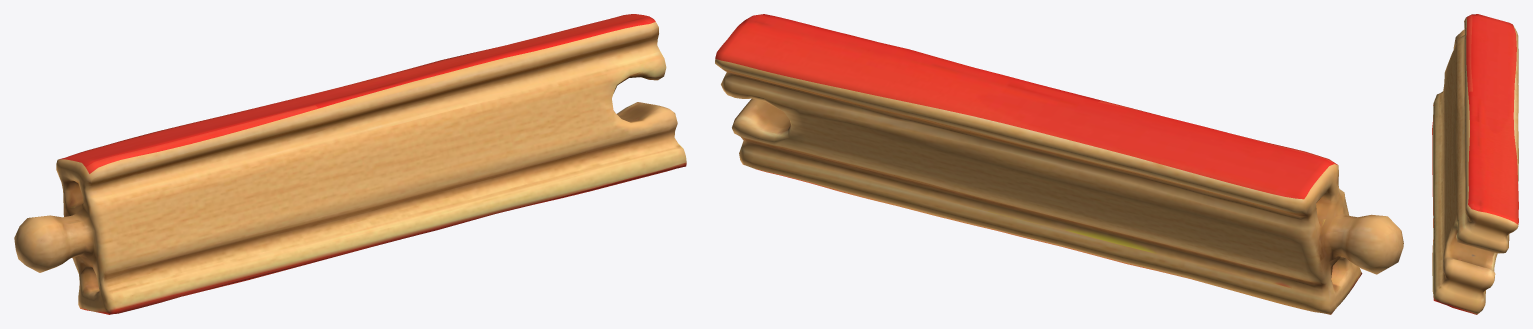
The model's file is WoodTrail_RedStraight.fbx.
3 renders of one model, left to right at view 1: azimuth 30°, elevation 25°; view 2: azimuth 150°, elevation 25°; view 3: azimuth 270°, elevation 25°, orthographic. The views are drawn at different scales.
Parts seen in each view (by area): view 1: Trail_redStriaght; view 2: Trail_redStriaght; view 3: Trail_redStriaght.
Part boxes in pixels (x1,y1,x2,y2): Trail_redStriaght: (14,14,686,314); Trail_redStriaght: (715,14,1403,314); Trail_redStriaght: (1432,14,1518,314).
Bounding box in the file's own units: 45.67 × 10.42 × 7.45.
Materials: 1 (1 with a texture image).
